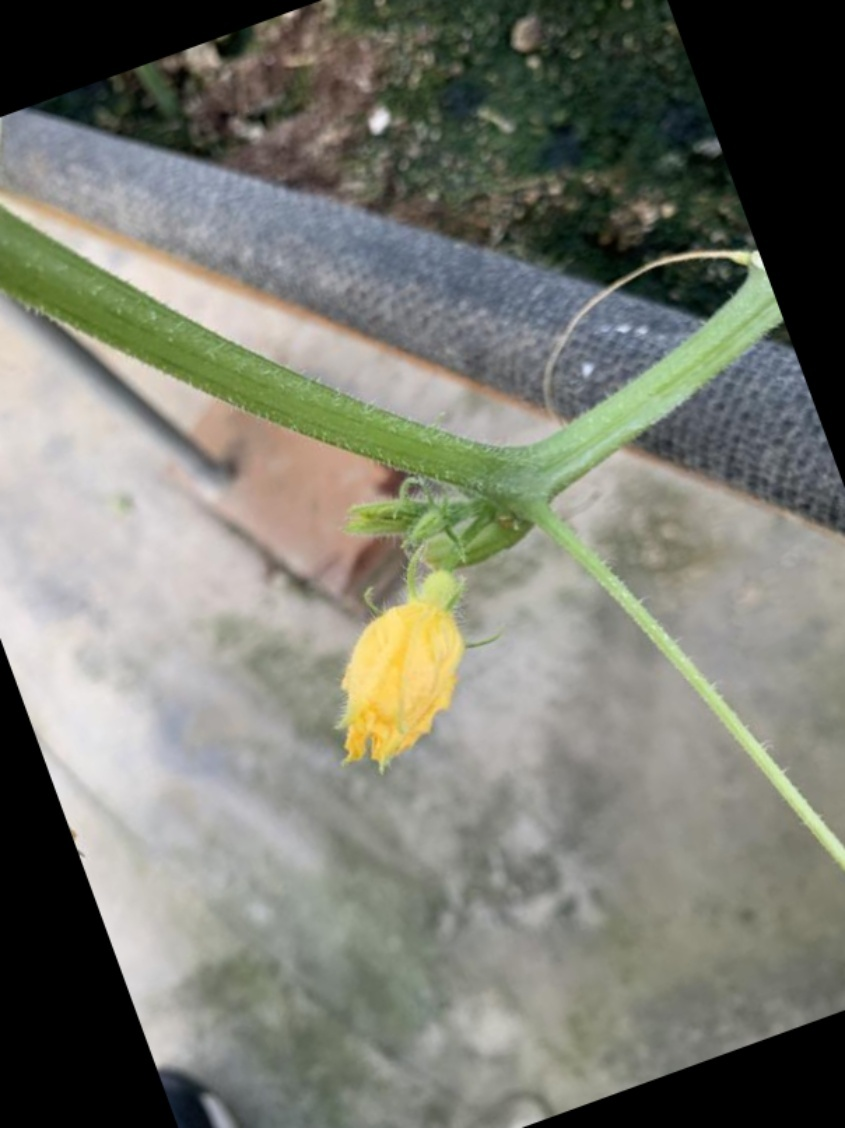bud: (228, 569, 510, 786)
